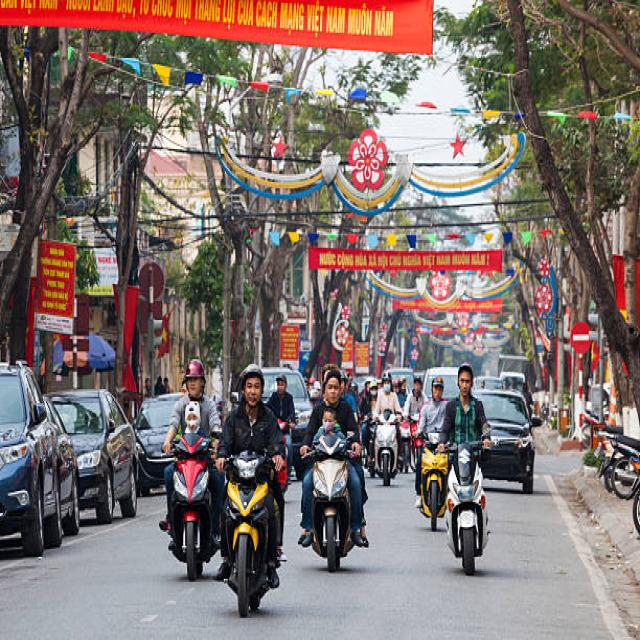moderate_traffic: (134, 298, 558, 640)
